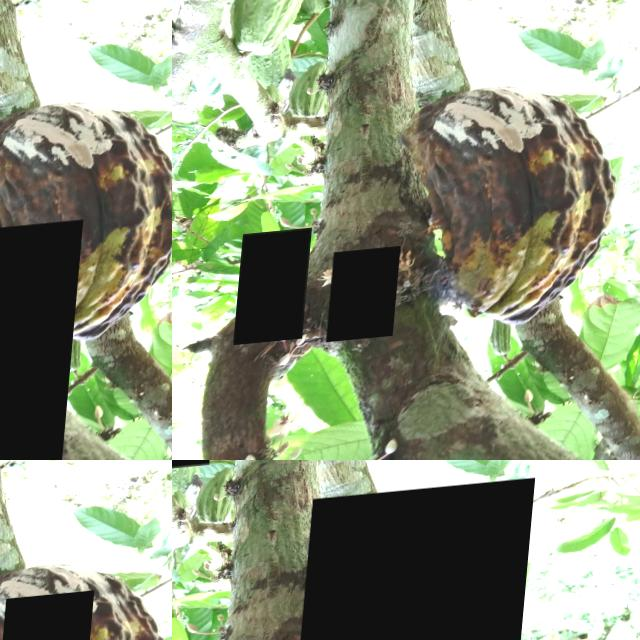Monilia: (298, 487, 538, 640), (0, 598, 98, 640)
Sana: (0, 227, 88, 460), (336, 103, 440, 273), (241, 232, 317, 348), (333, 252, 406, 347), (391, 84, 440, 144), (585, 288, 606, 318), (604, 291, 617, 319)
